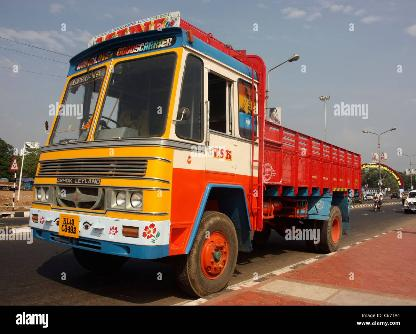truck: (24, 11, 374, 299)
